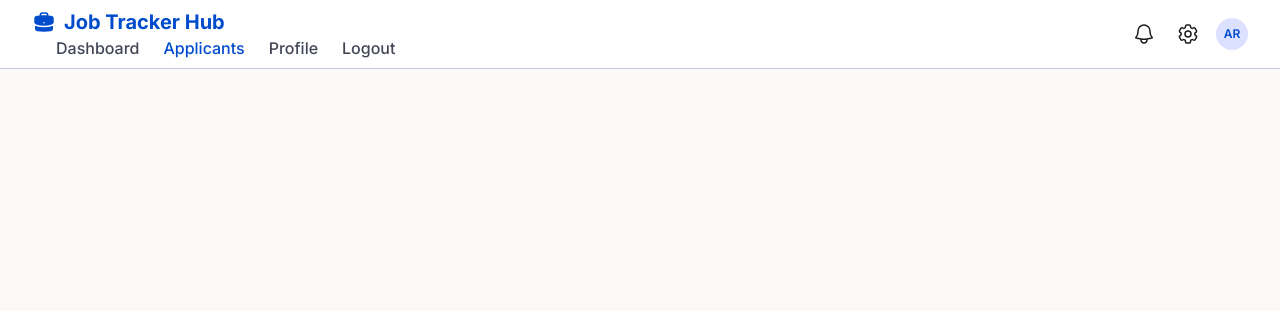
Test: Navbar › shows notifications and settings
Click the button named "Settings": (1188, 34) [1168,14,1208,54]
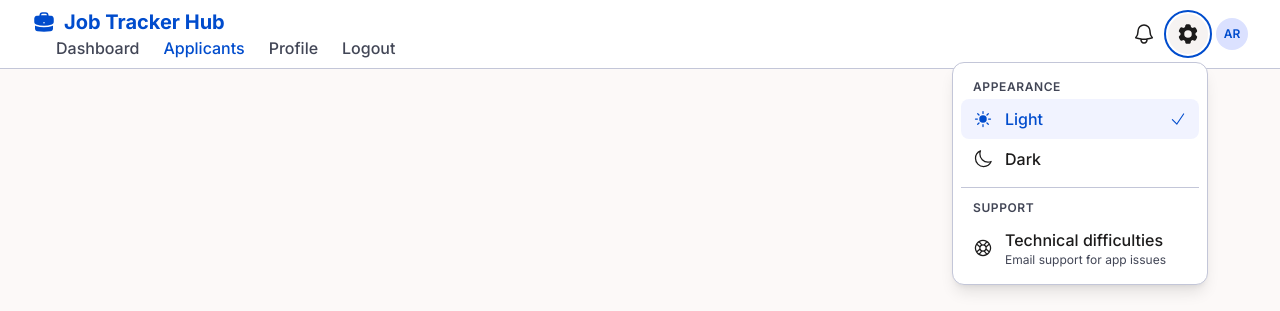
Expected: the menu item "Light" is shown, [961,99,1199,139]
Expected: the menu item "Dark" is shown, [961,139,1199,179]
Click the button named "Notifications": (1144, 34) [1124,14,1164,54]
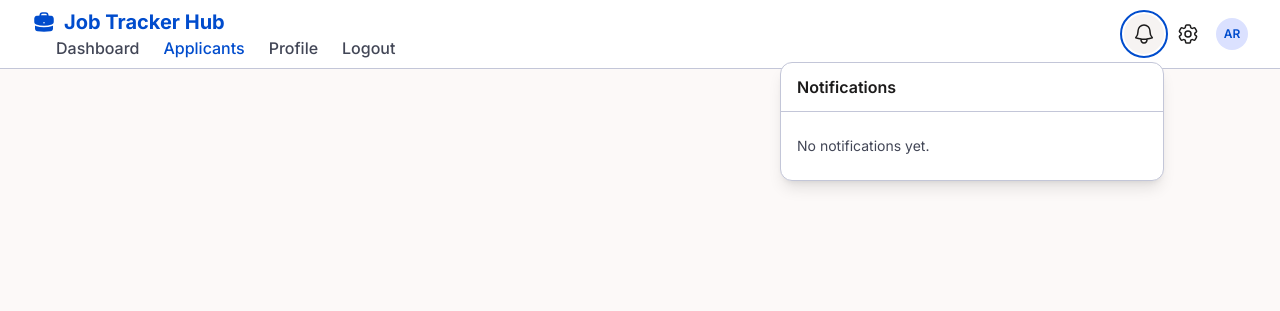
Expected: the text "No notifications yet." is shown, [797,137,929,154]
